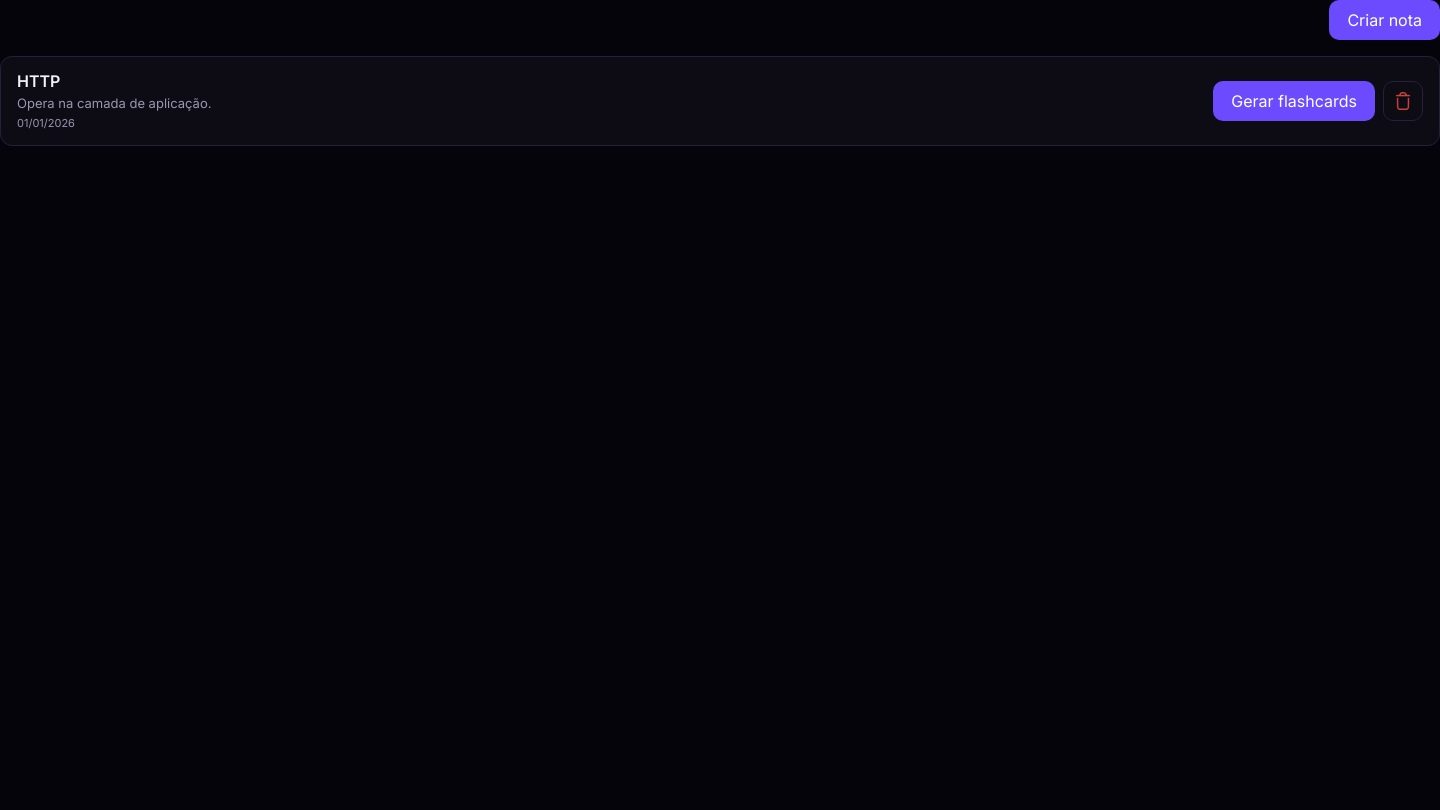
it: NotesTab › exclui com aviso de que os flashcards permanecem
Expected: the link "HTTP" is shown, top-left (17, 71), bottom-right (60, 91)
Click the button named "Excluir HTTP": coordinates (1403, 101) top-left (1383, 81), bottom-right (1423, 121)
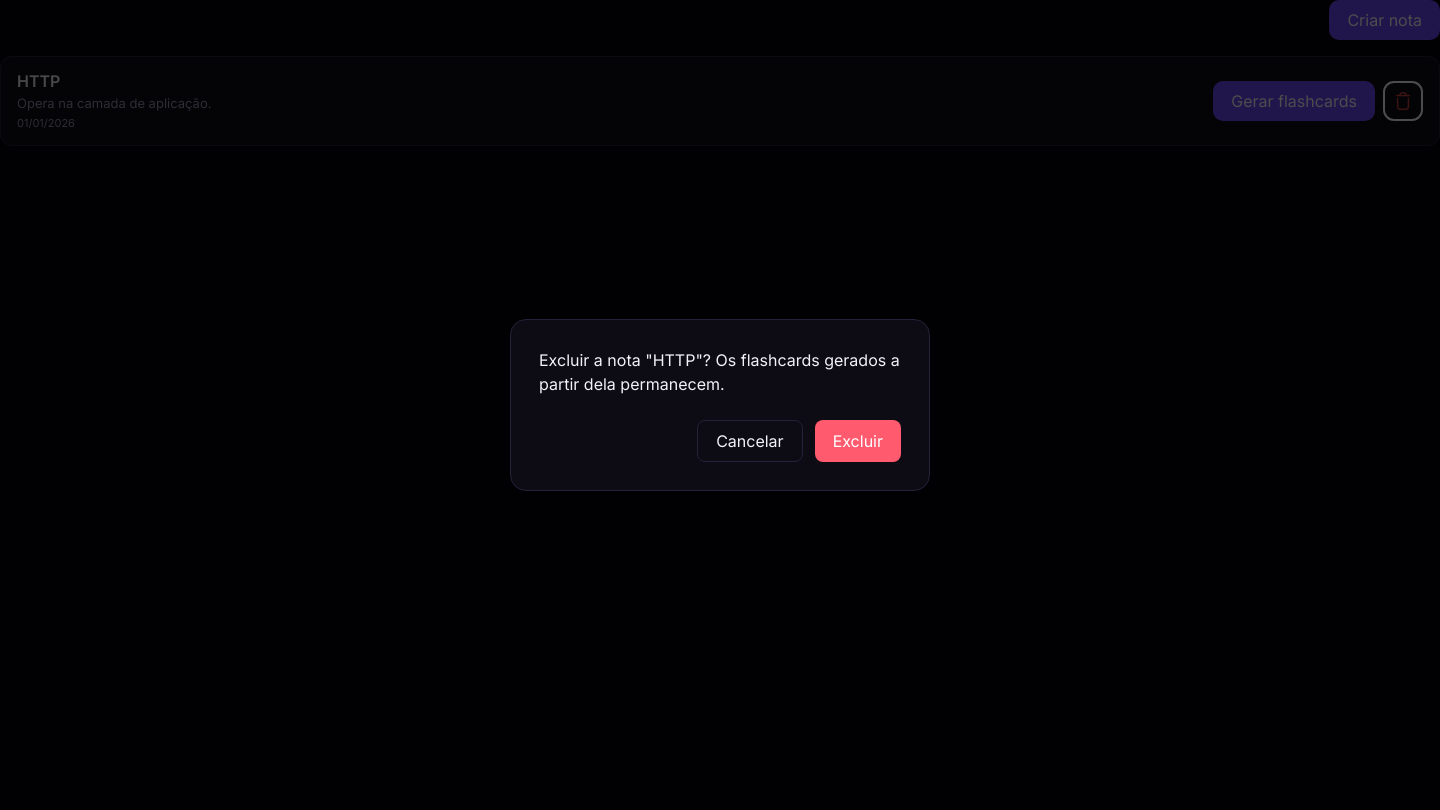
Expected: the text "flashcards gerados a partir dela permanecem" is shown, top-left (539, 350), bottom-right (900, 394)
Click the button "Excluir": coordinates (858, 441) top-left (815, 420), bottom-right (901, 462)
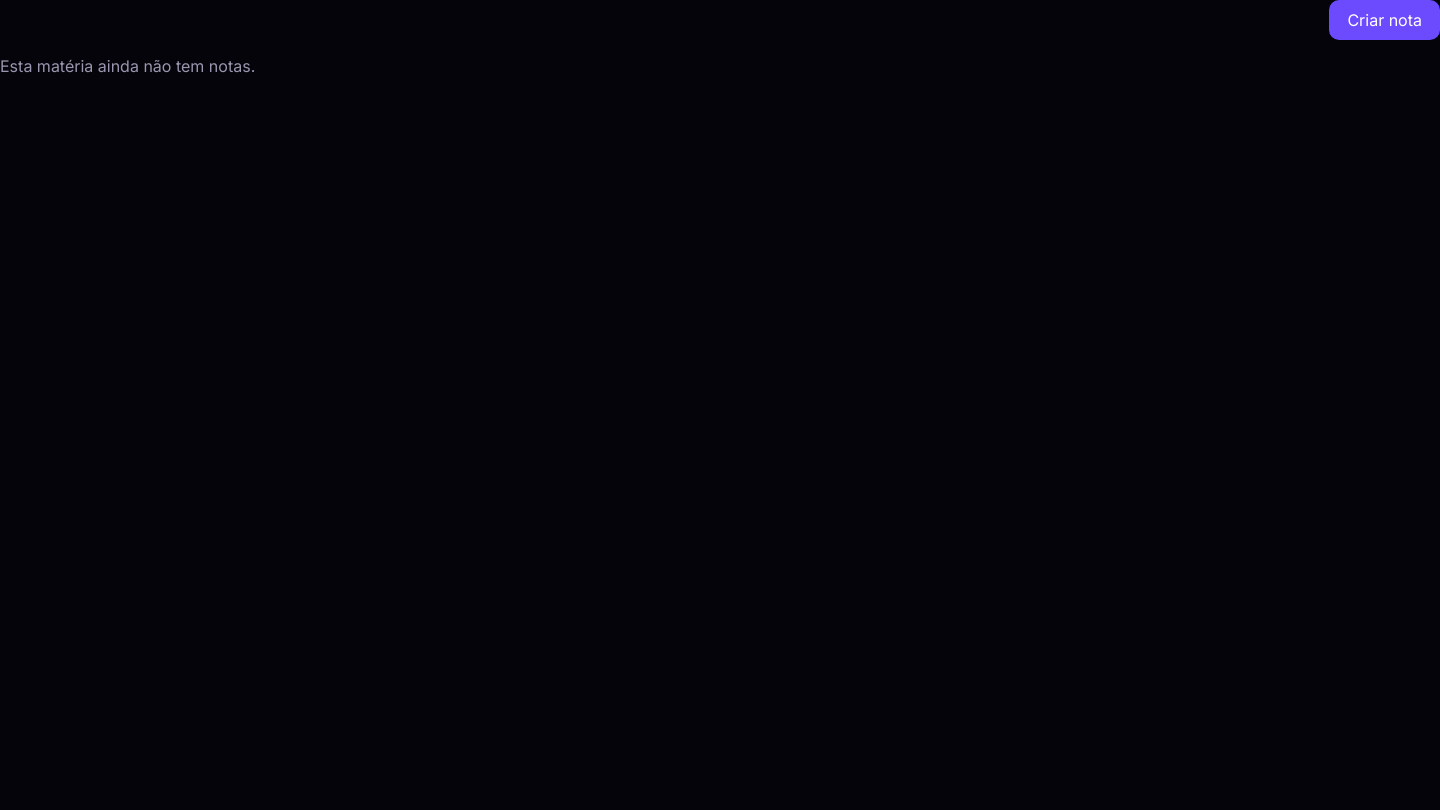
Expected: the link "HTTP" is gone
